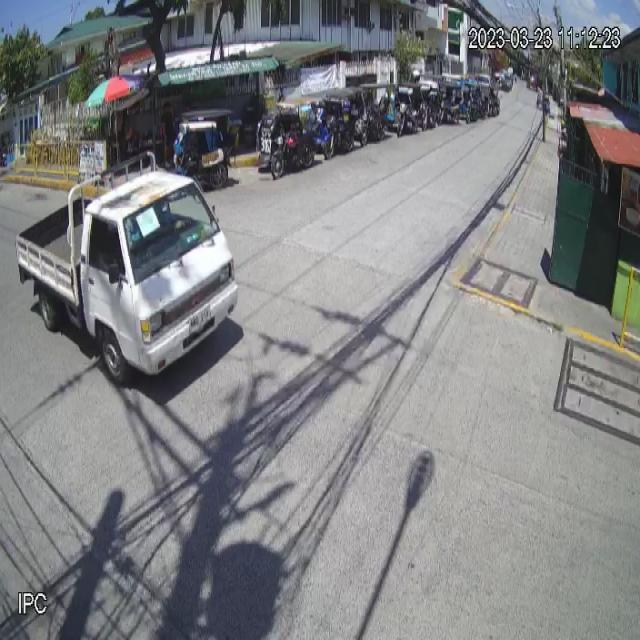Truck: (16, 150, 240, 389)
